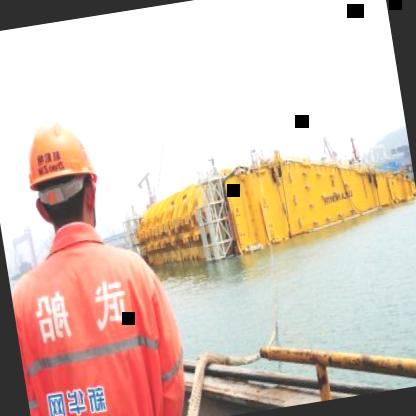helmet: (5, 96, 114, 252)
